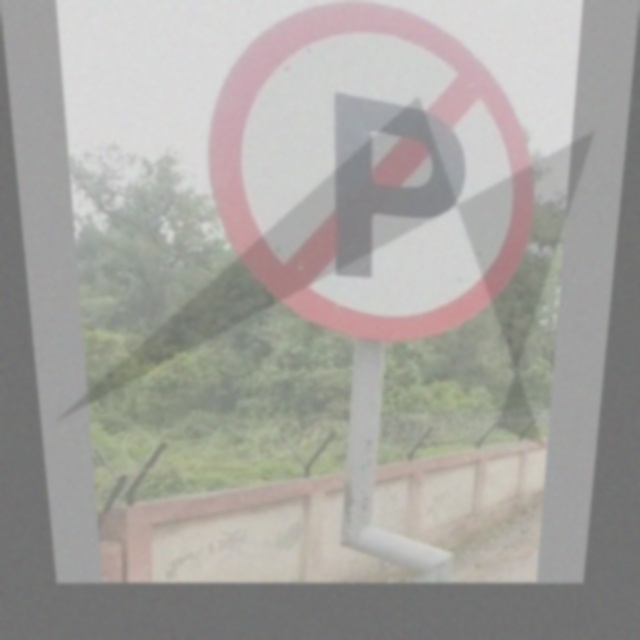No_Parking: (213, 8, 543, 334)
